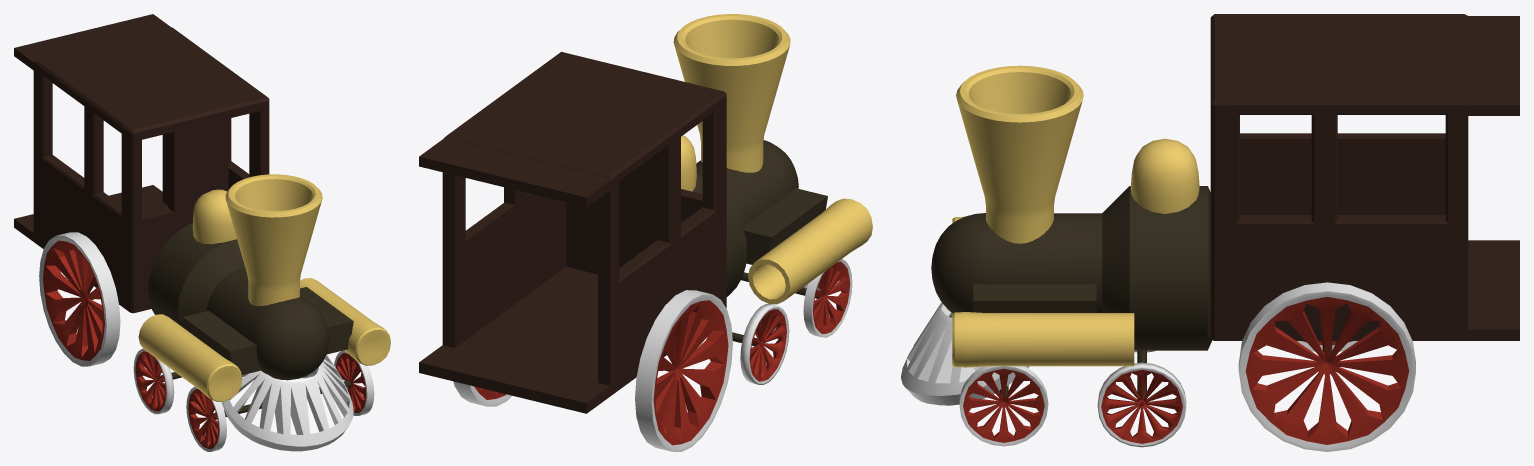
The model's file is Train.fbx.
3 renders of one model, left to right at view 1: azimuth 30°, elevation 25°; view 2: azimuth 150°, elevation 25°; view 3: azimuth 270°, elevation 25°, orthographic. The views are drawn at different scales.
Visible parts, largest first — view 1: Train, BigWheel, FrontWheel, MidWheel; view 2: Train, BigWheel, MidWheel, FrontWheel; view 3: Train, BigWheel, MidWheel, FrontWheel.
Boxes of the visible parts, x1,y1,x2,y2 form: Train: (14, 14, 390, 451); BigWheel: (39, 232, 120, 366); FrontWheel: (186, 350, 374, 451); MidWheel: (133, 348, 315, 414); Train: (419, 14, 872, 413); BigWheel: (453, 290, 732, 451); MidWheel: (732, 304, 789, 384); FrontWheel: (741, 259, 852, 337); Train: (901, 14, 1519, 405); BigWheel: (1238, 282, 1415, 451); MidWheel: (1097, 350, 1186, 447); FrontWheel: (959, 366, 1048, 446).
Size of the model in its own units: 647 by 866 by 1425.
